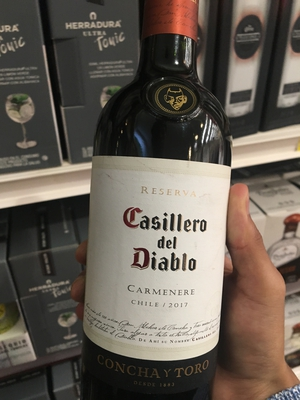casillero del diablo carmenere: (77, 13, 241, 400)
